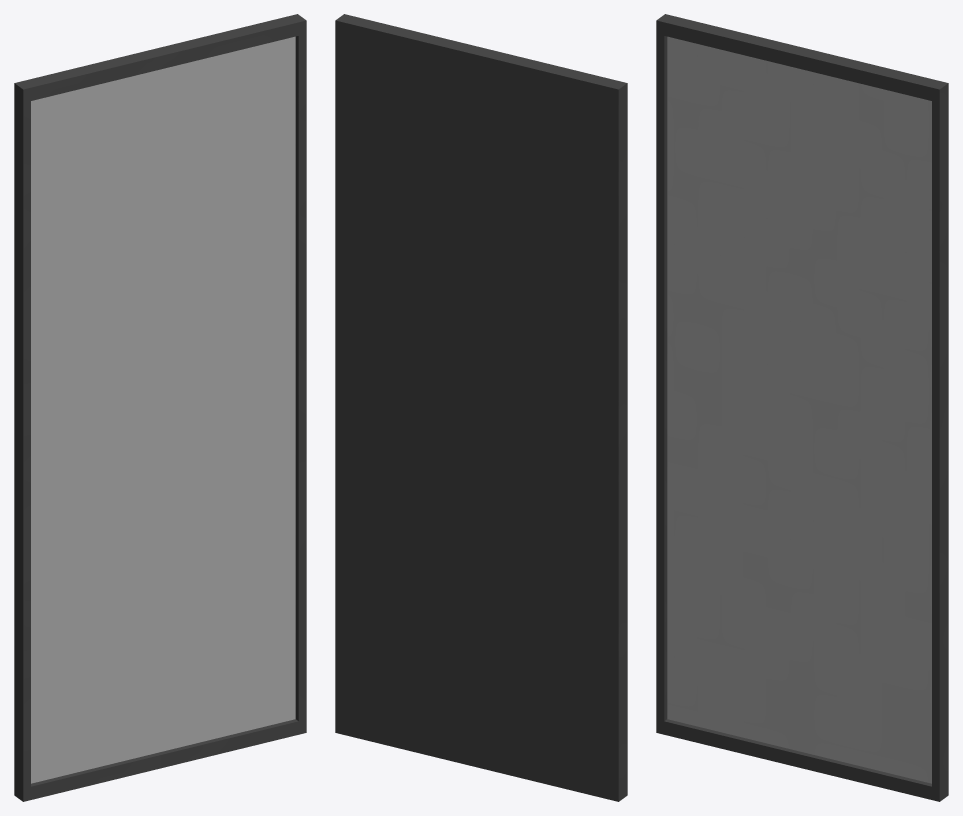
The model's file is Painting_02.fbx.
3 renders of one model, left to right at view 1: azimuth 30°, elevation 25°; view 2: azimuth 150°, elevation 25°; view 3: azimuth 330°, elevation 25°, orthographic.
Visible parts, largest first — view 1: Painting_02; view 2: Painting_02; view 3: Painting_02.
Boxes of the visible parts, x1,y1,x2,y2 form: Painting_02: (14,14,306,801); Painting_02: (335,14,627,801); Painting_02: (656,14,948,801).
Size of the model in its own units: 0.2422 by 0.5821 by 0.0131.
